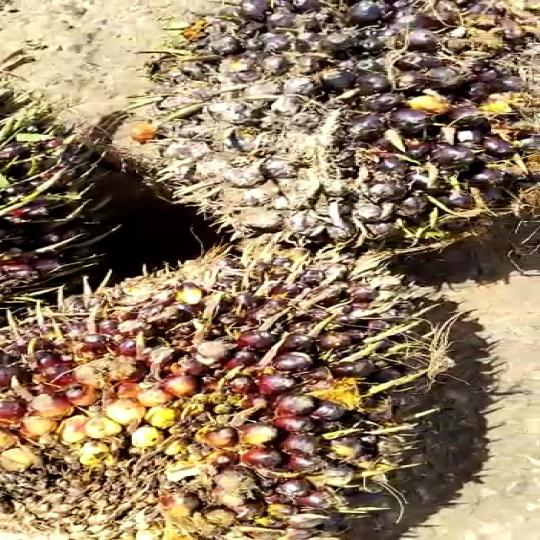kurang masak: (0, 252, 491, 539), (136, 0, 540, 257)
